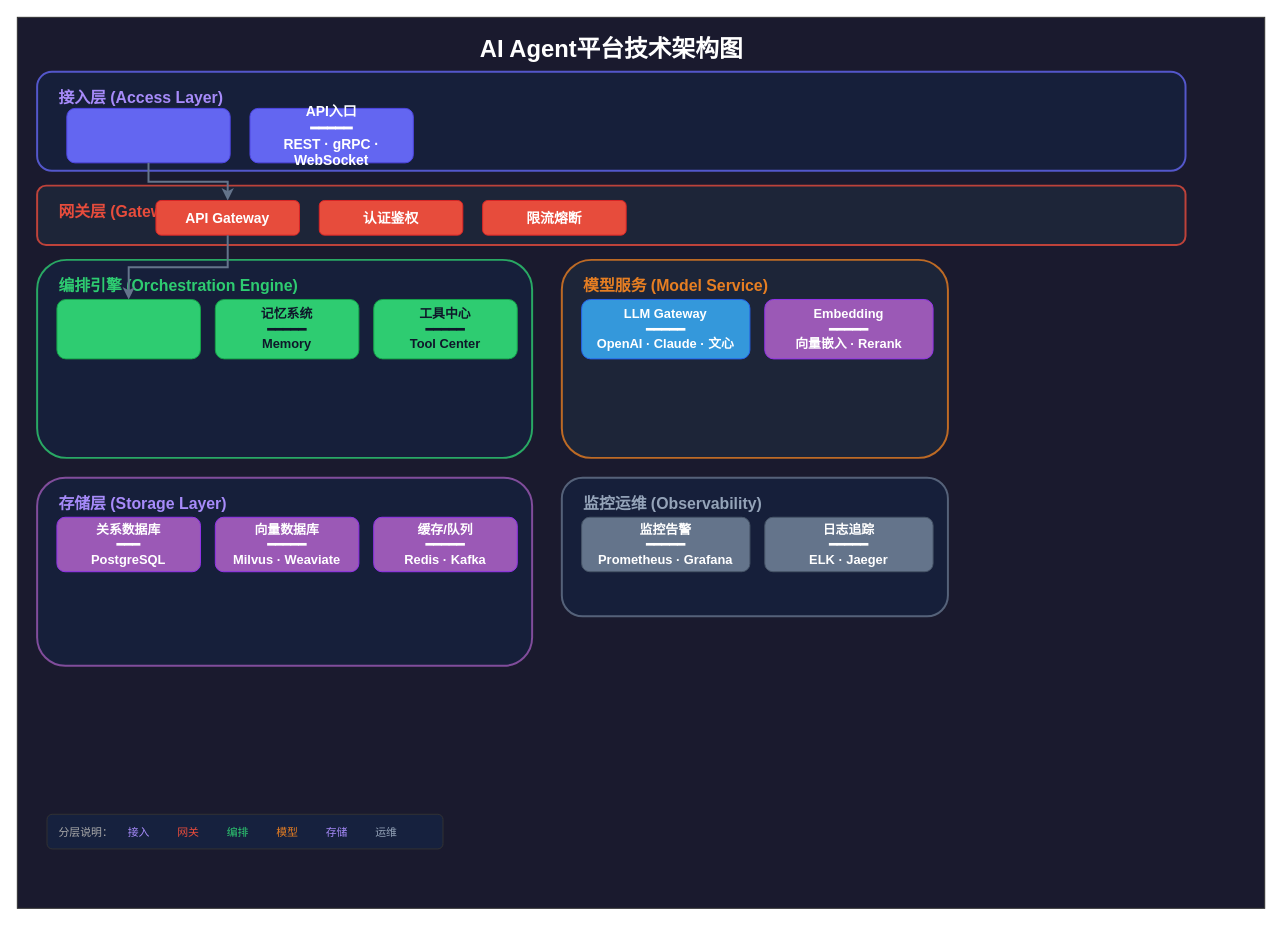
Some shapes in this 1282 by 926 pixel diagram are drawn without their labels. The centre of each missing label's shape, as x and y in pixels:
Web控制台 ━━━━━ React · TypeScript: (148,135)
任务规划器 ━━━━━ Planner: (128,328)
